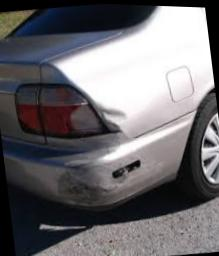Bumper: (14, 115, 188, 217)
Fender: (42, 41, 194, 136)
Light: (34, 84, 113, 137)
